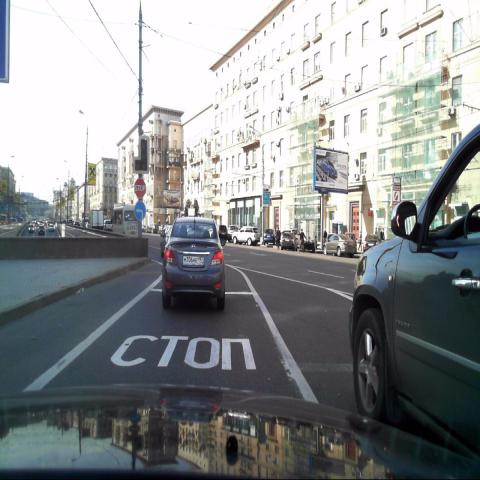4_1_3: (134, 200, 146, 220)
